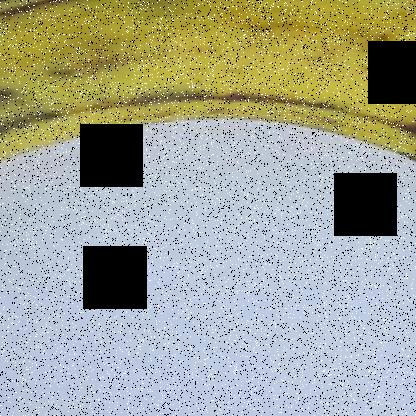ripe: (1, 1, 415, 205)
